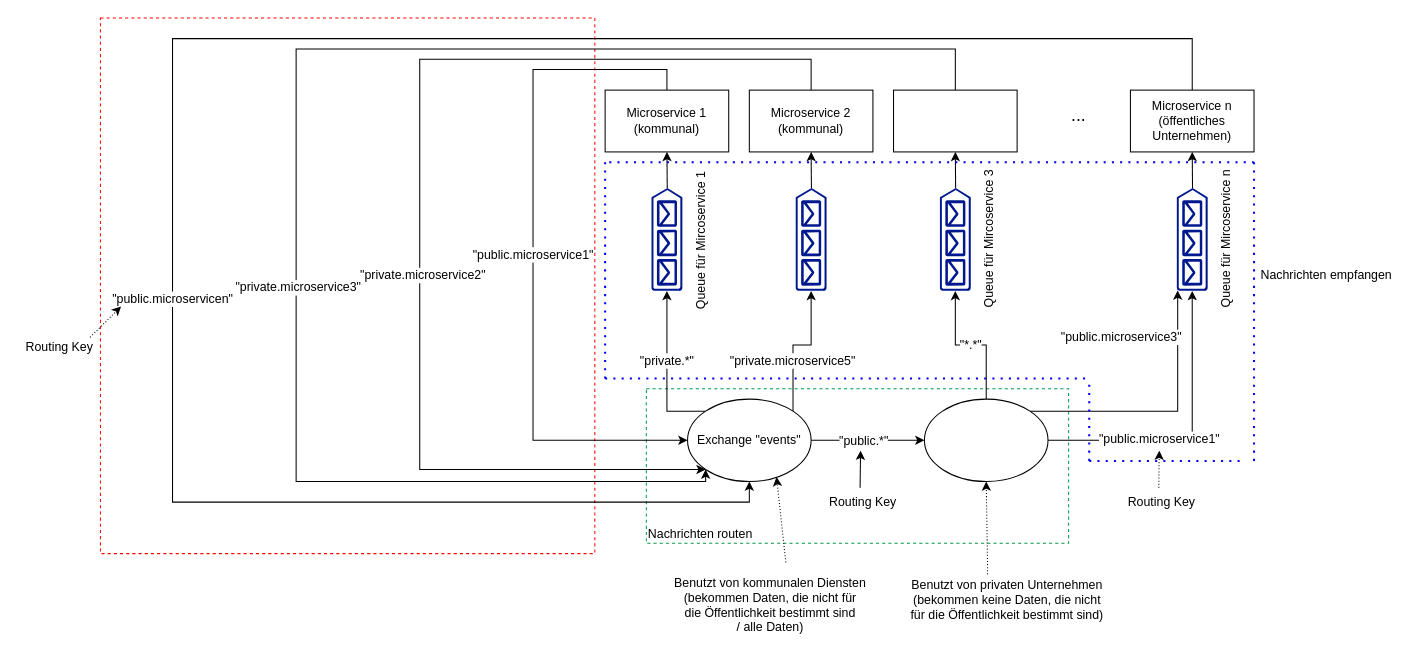
The diagram is 1415 pixels wide and 654 high, and some of its shapes have lost their labels. The shapes that lost their labels are listed below. From the top down, each one's centre as x and y in pixels, then its label:
point (954, 120): Microservice 3 (öffentliches Unternehmen)
point (810, 238): Queue für Mircoservice 2
point (347, 285): Nachrichten senden
point (985, 440): Exchange "public_events"
